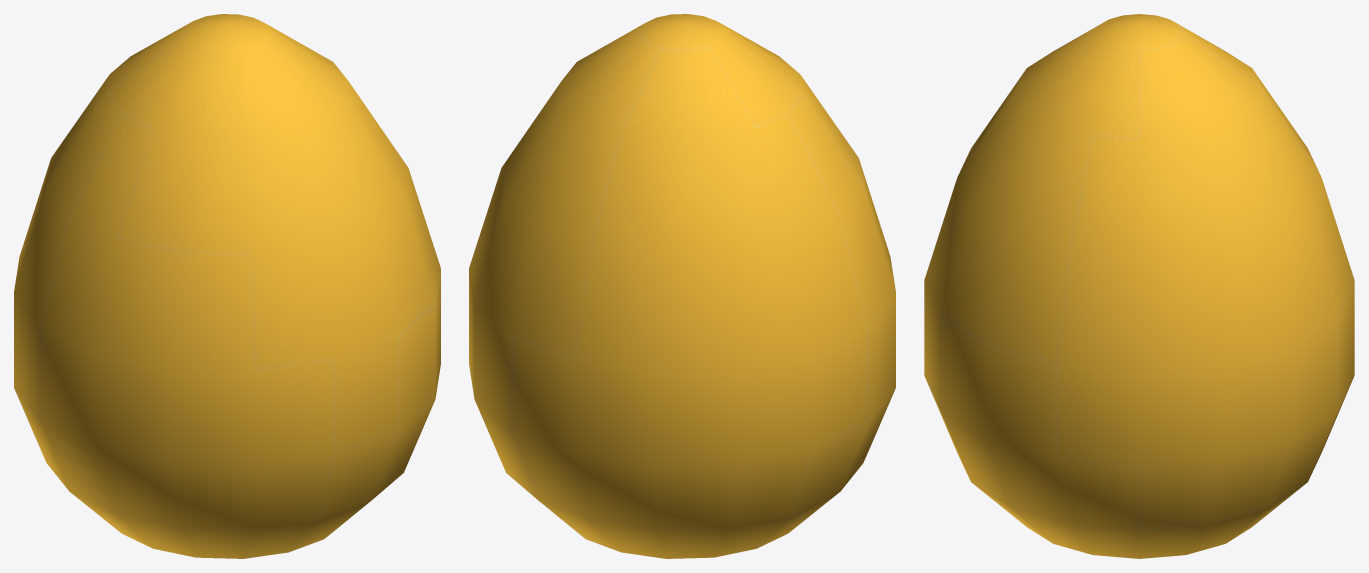
The picture shows the model from 3 angles, left to right: view 1: azimuth 30°, elevation 25°; view 2: azimuth 150°, elevation 25°; view 3: azimuth 270°, elevation 25°; orthographic projection.
Visible parts, largest first — view 1: Egg-LowPoly-MonoTone_0; view 2: Egg-LowPoly-MonoTone_0; view 3: Egg-LowPoly-MonoTone_0.
Boxes of the visible parts, left/top/right/bottom form: Egg-LowPoly-MonoTone_0: left=14, top=14, right=440, bottom=558; Egg-LowPoly-MonoTone_0: left=469, top=14, right=895, bottom=558; Egg-LowPoly-MonoTone_0: left=924, top=14, right=1354, bottom=558.
Bounding box in the file's own units: 1.96 × 2.6 × 1.96.
Materials: 1 (1 with a texture image).
